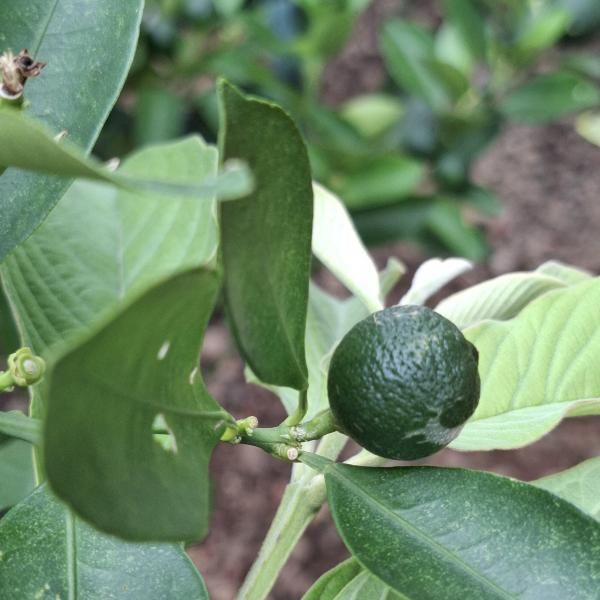Scab: (316, 294, 490, 468)
